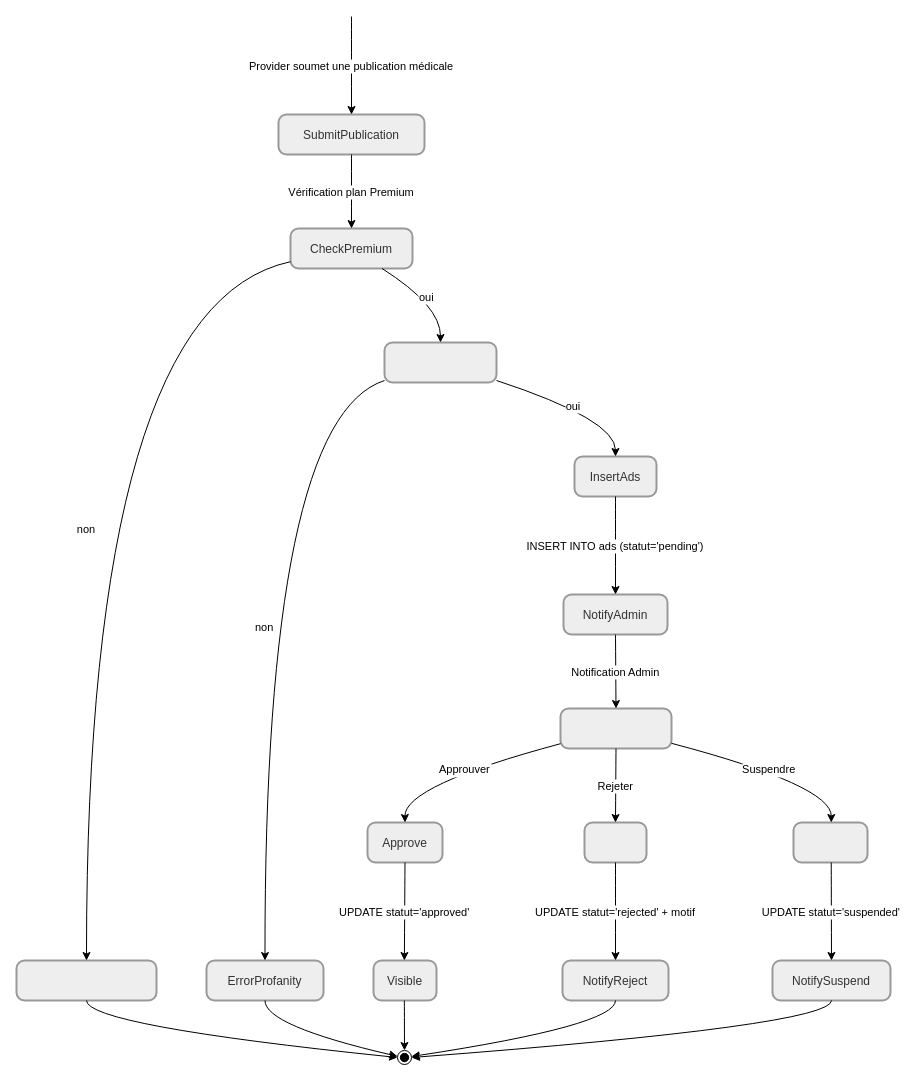
Image size: 918x1081. Some labels were removed from this diagram. Here are the shapes that lost their labels. From the top down, the centre of each, then its label:
the point at 440,362: FilterContent
the point at 615,728: AdminReview
the point at 615,842: Reject
the point at 830,842: Suspend
the point at 86,980: ErrorNotPremium
